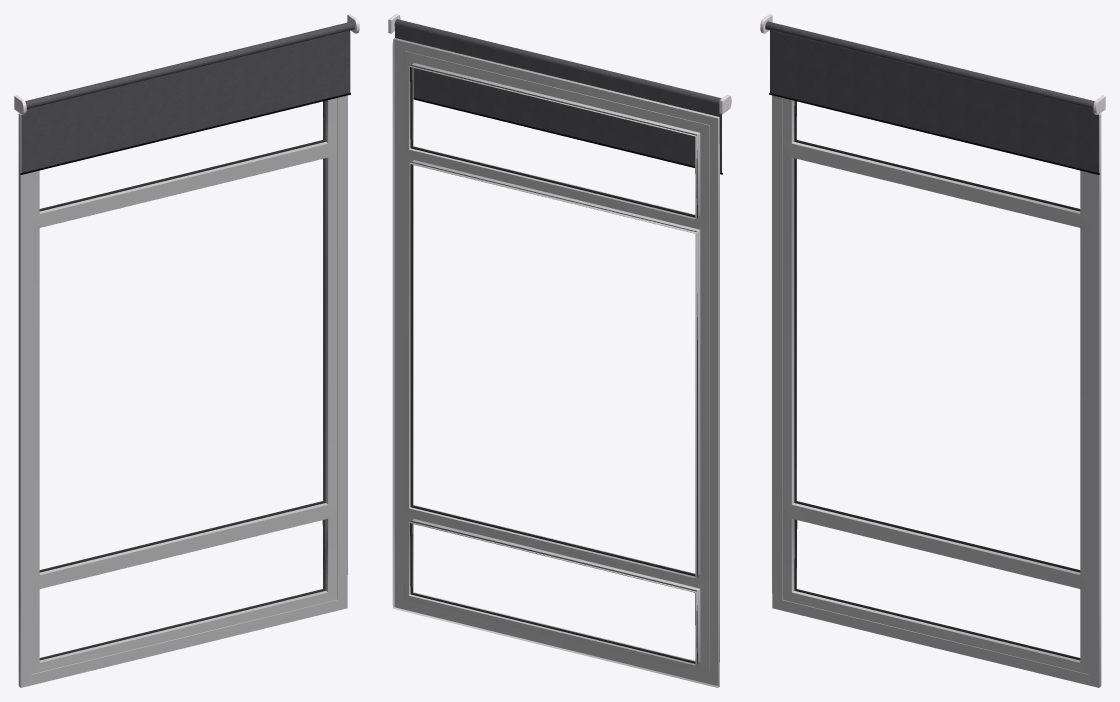
File: 3d_architecture__window.glb
3 views of the same model, side by side, from view 1: azimuth 30°, elevation 25°; view 2: azimuth 150°, elevation 25°; view 3: azimuth 330°, elevation 25° (orthographic).
Parts seen in each view (by area): view 1: Raam_010_Raam_korzijn_0, Cylinder002_Material #2352_0, Raam_010_Rubber_material_0, Cylinder002_Metal_material_0; view 2: Raam_010_Raam_korzijn_0, Cylinder002_Material #2352_0, Raam_010_Rubber_material_0, Cylinder002_Metal_material_0; view 3: Raam_010_Raam_korzijn_0, Cylinder002_Material #2352_0, Raam_010_Rubber_material_0, Cylinder002_Metal_material_0.
Part boxes in pixels (x1,y1,x2,y2): Raam_010_Raam_korzijn_0: (18, 95, 347, 687); Cylinder002_Material #2352_0: (21, 21, 354, 172); Raam_010_Rubber_material_0: (39, 101, 325, 660); Cylinder002_Metal_material_0: (20, 93, 350, 174); Raam_010_Raam_korzijn_0: (392, 38, 719, 687); Cylinder002_Material #2352_0: (394, 19, 721, 172); Raam_010_Rubber_material_0: (410, 65, 697, 663); Cylinder002_Metal_material_0: (413, 98, 722, 174); Raam_010_Raam_korzijn_0: (772, 95, 1101, 687); Cylinder002_Material #2352_0: (765, 21, 1098, 172); Raam_010_Rubber_material_0: (794, 101, 1080, 660); Cylinder002_Metal_material_0: (769, 93, 1099, 174).
Size of what is drawn, in the model's own units: 1.65 by 2.78 by 0.1081.
5 materials, 1 textured.
